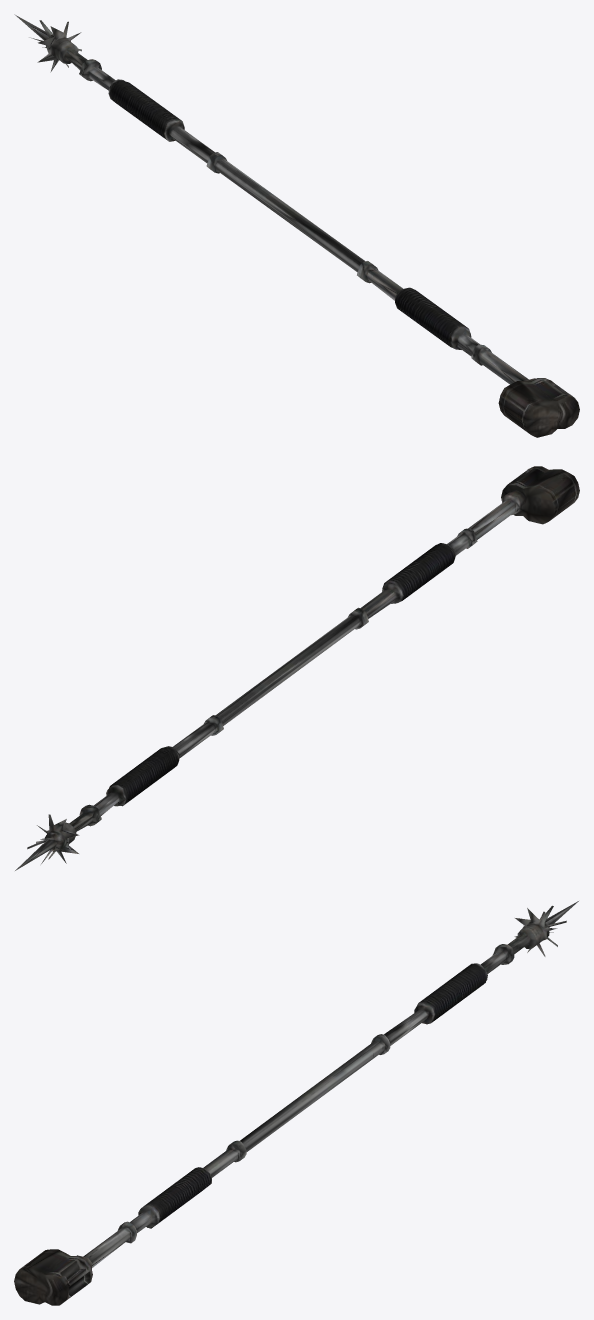
The model's file is force_pike.glb.
The picture shows the model from 3 angles, top to bottom: view 1: azimuth 30°, elevation 25°; view 2: azimuth 150°, elevation 25°; view 3: azimuth 330°, elevation 25°; orthographic projection. The views are drawn at different scales.
Parts seen in each view (by area): view 1: force_pike; view 2: force_pike; view 3: force_pike.
Part boxes in pixels (box(x1,y1,x2,y2)): force_pike: box(14, 14, 579, 437); force_pike: box(15, 466, 579, 870); force_pike: box(14, 901, 578, 1305).
Bounding box in the file's own units: 0.0606 × 0.0469 × 0.9885.
1 material, 1 textured.
